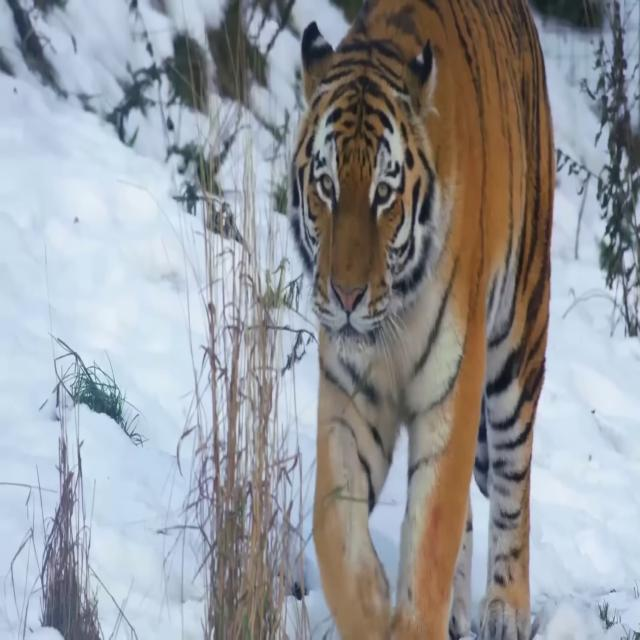tiger: (292, 6, 558, 635)
